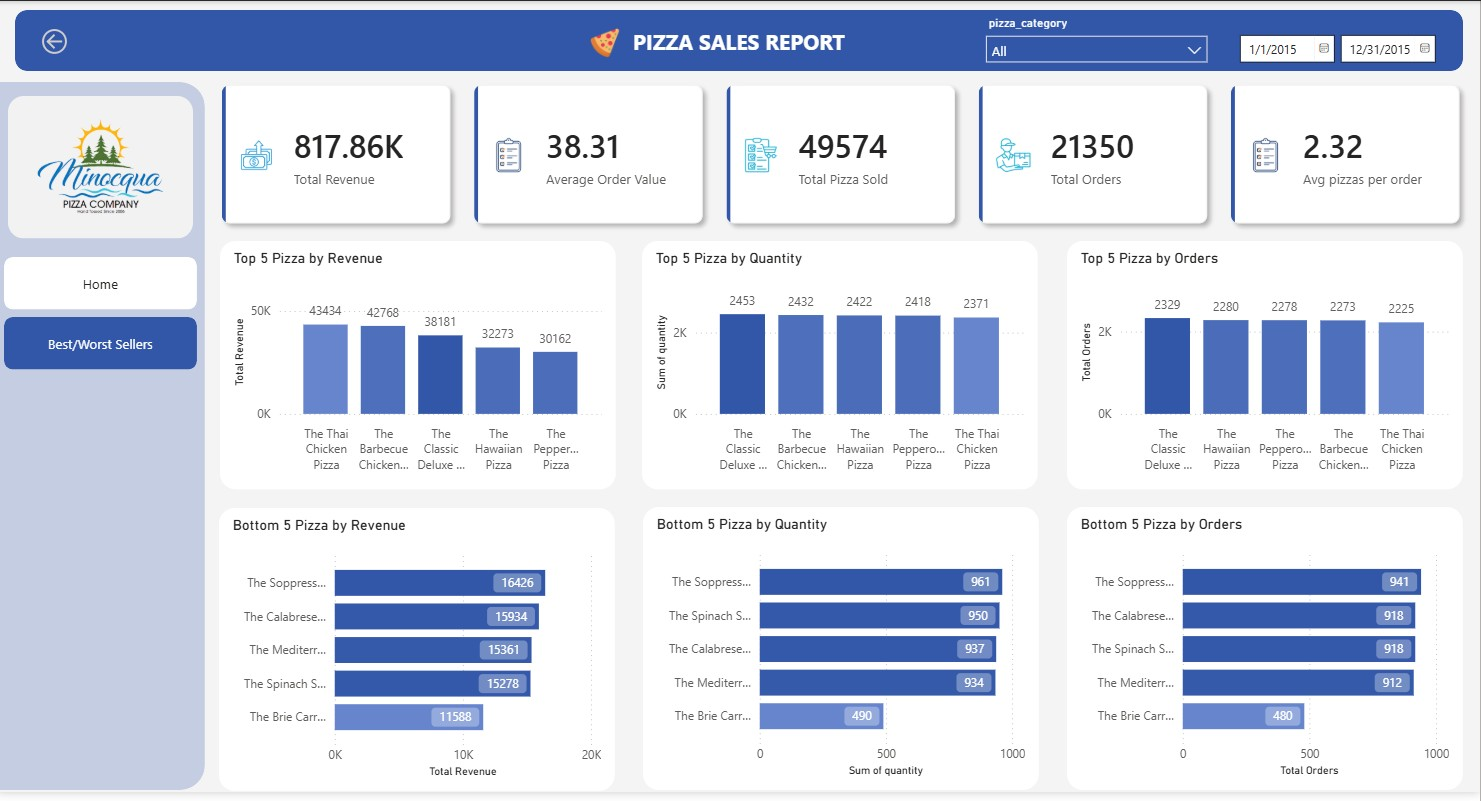

What the dashboard file says about the page in this screenshot:
{"tool":"powerbi","page":{"name":"Best/Worst Sellers","canvas":[1500,800],"ordinal":1},"visuals":[{"type":"shape","box":[19.2,9.1,1463.6,61.7],"z":0},{"type":"shape","box":[0,81.9,211.3,715.6],"z":1000},{"type":"slicer","fields":{"Values":["pizza_sales.order_date"]},"box":[1244.3,24.2,223.4,42.5],"z":2000},{"type":"barChart","title":"Bottom 5 Pizza by Revenue","fields":{"Category":["pizza_sales.pizza_name"],"Y":["KPI_Measures.Total Revenue"]},"box":[225.4,512.5,400,286.1],"z":3000},{"type":"barChart","title":"Bottom 5 Pizza by Quantity","fields":{"Category":["pizza_sales.pizza_name"],"Y":["Sum(pizza_sales.quantity)"]},"box":[654.1,511.8,400.1,286.1],"z":4000},{"type":"barChart","title":"Bottom 5 Pizza by Orders","fields":{"Category":["pizza_sales.pizza_name"],"Y":["KPI_Measures.Total Orders"]},"box":[1082.8,511.8,400,286.1],"z":5000},{"type":"columnChart","title":"Top 5 Pizza by Revenue","fields":{"Category":["pizza_sales.pizza_name"],"Y":["KPI_Measures.Total Revenue"]},"box":[226.8,242.8,400.1,250.8],"z":6000},{"type":"columnChart","title":"Top 5 Pizza by Quantity","fields":{"Y":["Sum(pizza_sales.quantity)"],"Category":["pizza_sales.pizza_name"]},"box":[653.1,242.8,400.1,250.8],"z":7000},{"type":"columnChart","title":"Top 5 Pizza by Orders","fields":{"Category":["pizza_sales.pizza_name"],"Y":["KPI_Measures.Total Orders"]},"box":[1082.8,242.8,400.1,250.8],"z":8000},{"type":"slicer","fields":{"Values":["pizza_sales.pizza_category"]},"box":[990.6,10.1,243.6,59.6],"z":9000},{"type":"actionButton","box":[41.4,20.2,35.4,40.4],"z":12000},{"type":"image","box":[600.4,26.3,30.3,32.3],"z":13000},{"type":"cardVisual","fields":{"Data":["KPI_Measures.Total_Revenue","pizza_sales.AOV","KPI_Measures.Total_Pizza_Sold","KPI_Measures.Total_Orders","pizza_sales.Avg_pizzas_per_order"]},"box":[211.3,72.8,1288.7,164.8],"z":14000},{"type":"pageNavigator","box":[8.1,258.7,195.1,53.6],"z":14001},{"type":"pageNavigator","box":[8.1,319.4,195.1,53.6],"z":14002},{"type":"image","box":[12.1,96,187,143.5],"z":14003}]}

Visuals, with their boxes in screenshot pixels (x1, y1, x2, y2), scaled from the page's 1500x800 canvas onto the 1481x801 screenshot:
shape: (19, 9, 1464, 71)
shape: (0, 82, 209, 798)
slicer - pizza_sales.order_date: (1229, 24, 1449, 67)
"Bottom 5 Pizza by Revenue" barChart: (223, 513, 617, 800)
"Bottom 5 Pizza by Quantity" barChart: (646, 512, 1041, 799)
"Bottom 5 Pizza by Orders" barChart: (1069, 512, 1464, 799)
"Top 5 Pizza by Revenue" columnChart: (224, 243, 619, 494)
"Top 5 Pizza by Quantity" columnChart: (645, 243, 1040, 494)
"Top 5 Pizza by Orders" columnChart: (1069, 243, 1464, 494)
slicer - pizza_sales.pizza_category: (978, 10, 1219, 70)
actionButton: (41, 20, 76, 61)
image: (593, 26, 623, 59)
cardVisual - KPI_Measures.Total_Revenue x pizza_sales.AOV: (209, 73, 1480, 238)
pageNavigator: (8, 259, 201, 313)
pageNavigator: (8, 320, 201, 373)
image: (12, 96, 197, 240)
